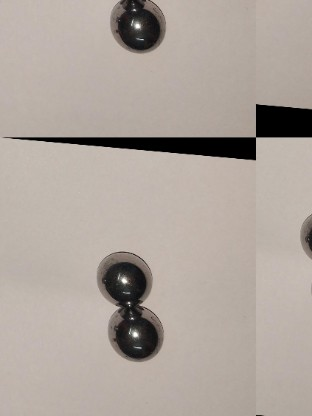ironball: (102, 300, 166, 368), (93, 246, 158, 307), (109, 0, 166, 52), (297, 209, 310, 261)
